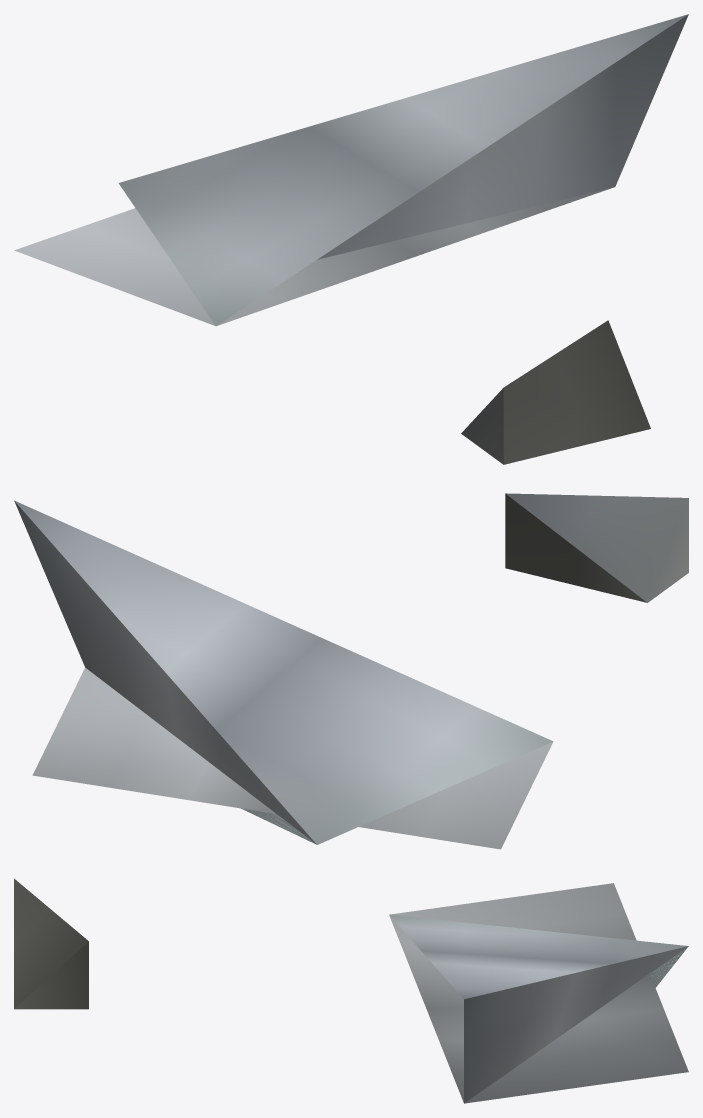
3 renders of one model, top to bottom at view 1: azimuth 30°, elevation 25°; view 2: azimuth 150°, elevation 25°; view 3: azimuth 270°, elevation 25°, orthographic. The views are drawn at different scales.
Parts seen in each view (by area): view 1: 30436272704370436435_0; view 2: 30436272704370436435_0; view 3: 30436272704370436435_0.
Part boxes in pixels (box(x1,y1,x2,y2)): 30436272704370436435_0: box(14, 14, 688, 464); 30436272704370436435_0: box(14, 493, 688, 849); 30436272704370436435_0: box(14, 878, 688, 1103).
Bounding box in the file's own units: 1.23 × 0.3085 × 1.39.
1 material, 1 textured.
